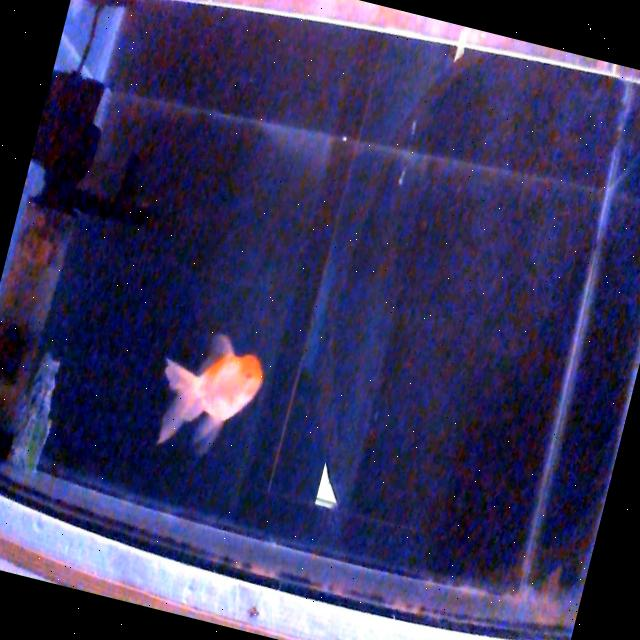fish: (157, 333, 262, 452)
